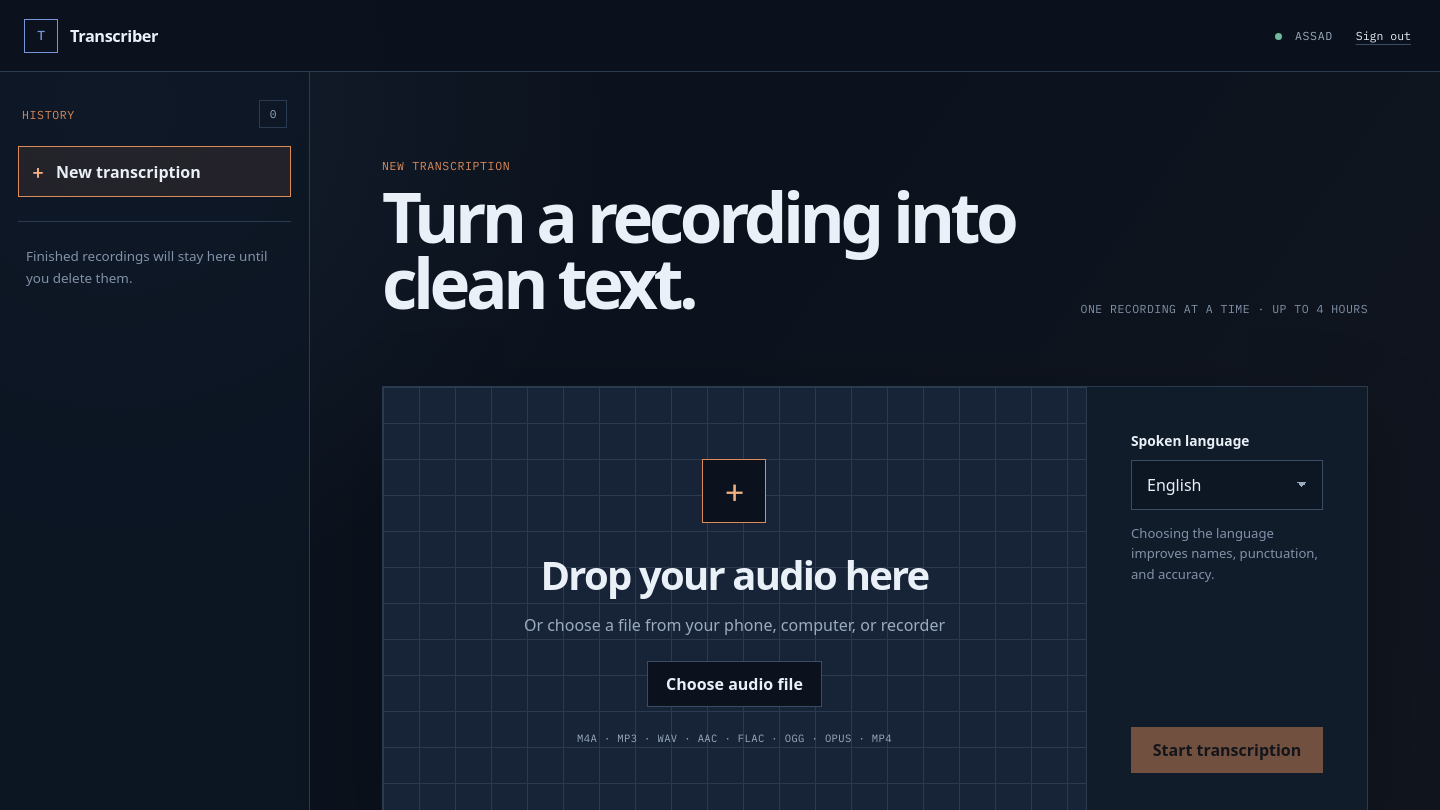
AppShell › shows the signed-in owner and signs out with the CSRF token
Check: the text "assad" is shown, box top-left (1276, 28), bottom-right (1333, 43)
Check: the heading "Turn a recording into clean text." is shown, box top-left (382, 183), bottom-right (1041, 316)
Click the button "Sign out" at [1383, 36], box top-left (1351, 16), bottom-right (1416, 56)
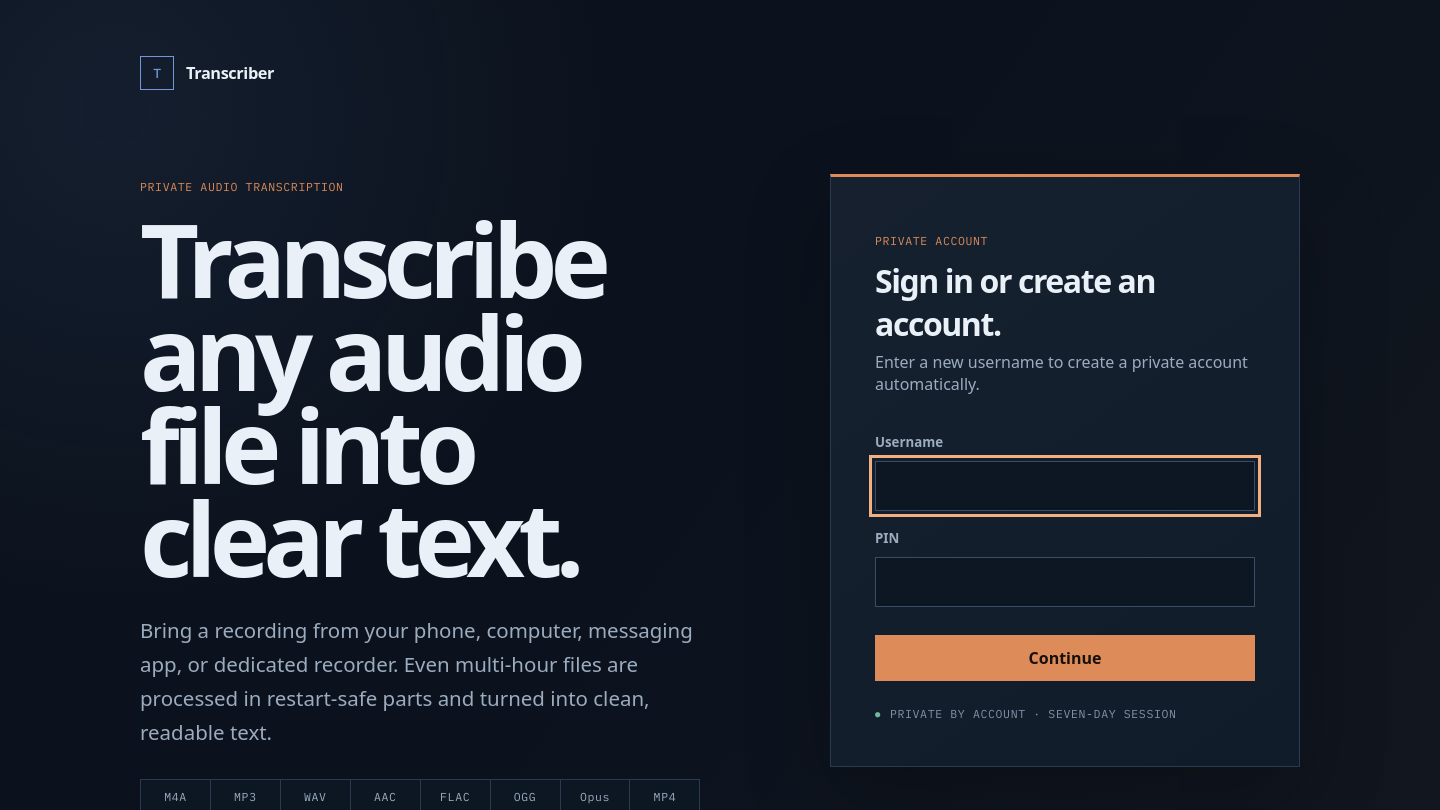
Check: the heading "Transcribe any audio file into clear text." is shown, box top-left (140, 189), bottom-right (604, 607)
